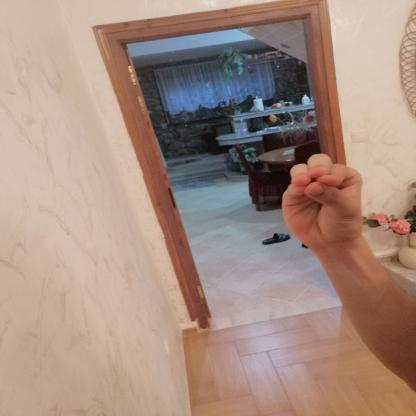HA: (268, 144, 380, 261)
